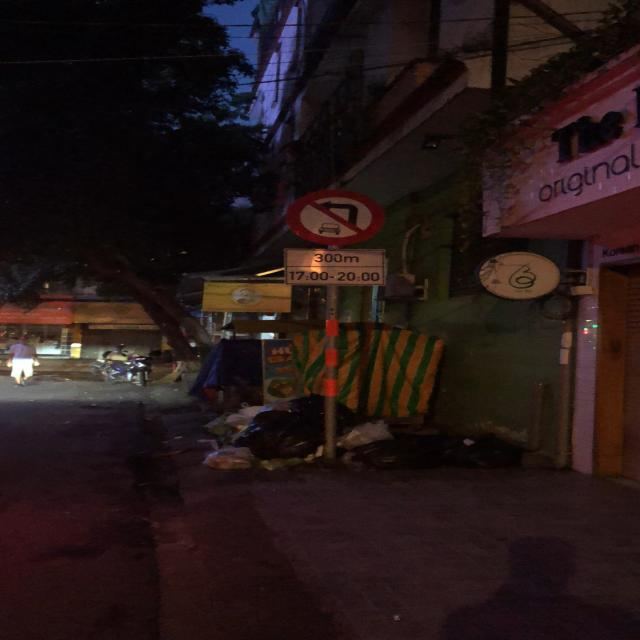Bien bao cam xe o to re trai: (282, 187, 388, 243)
